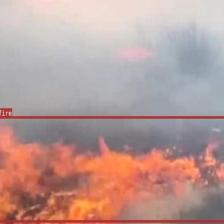fire: (0, 116, 224, 222)
